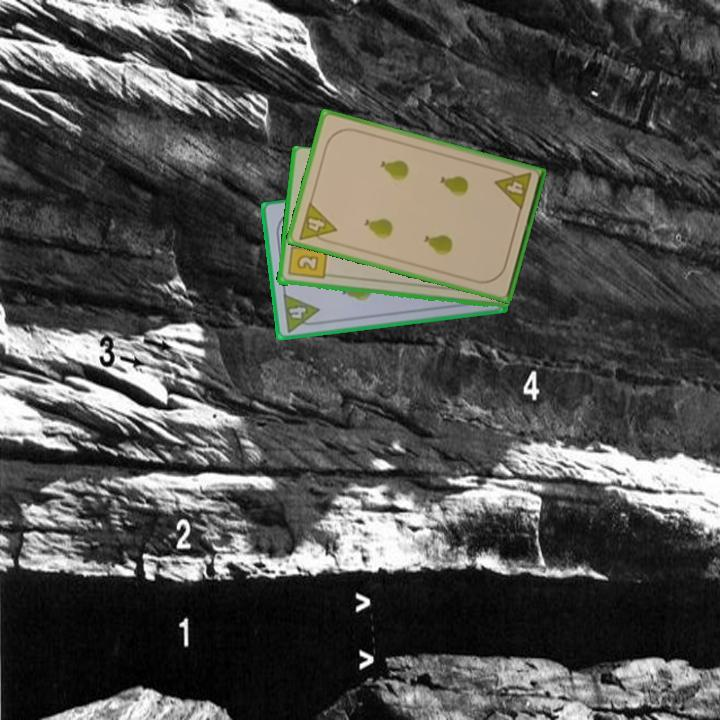2b: (284, 237, 329, 282)
4p: (295, 198, 339, 247), (491, 165, 534, 213), (279, 290, 323, 335)
